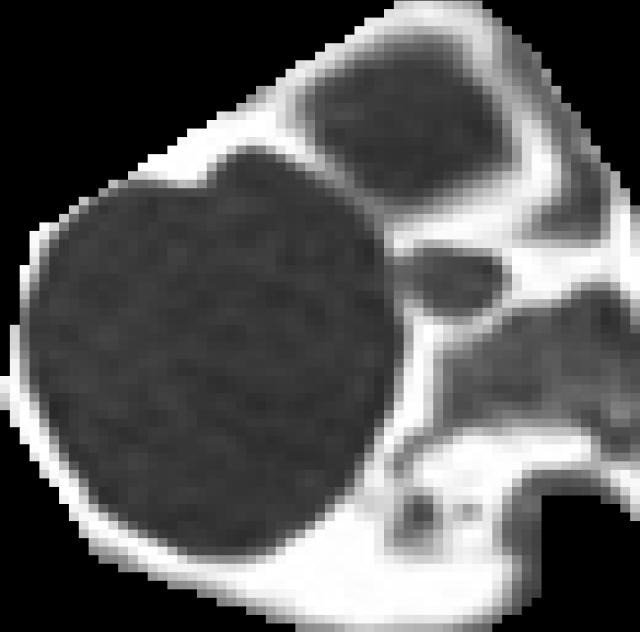tumor_moderate_chance: (0, 1, 640, 632)
